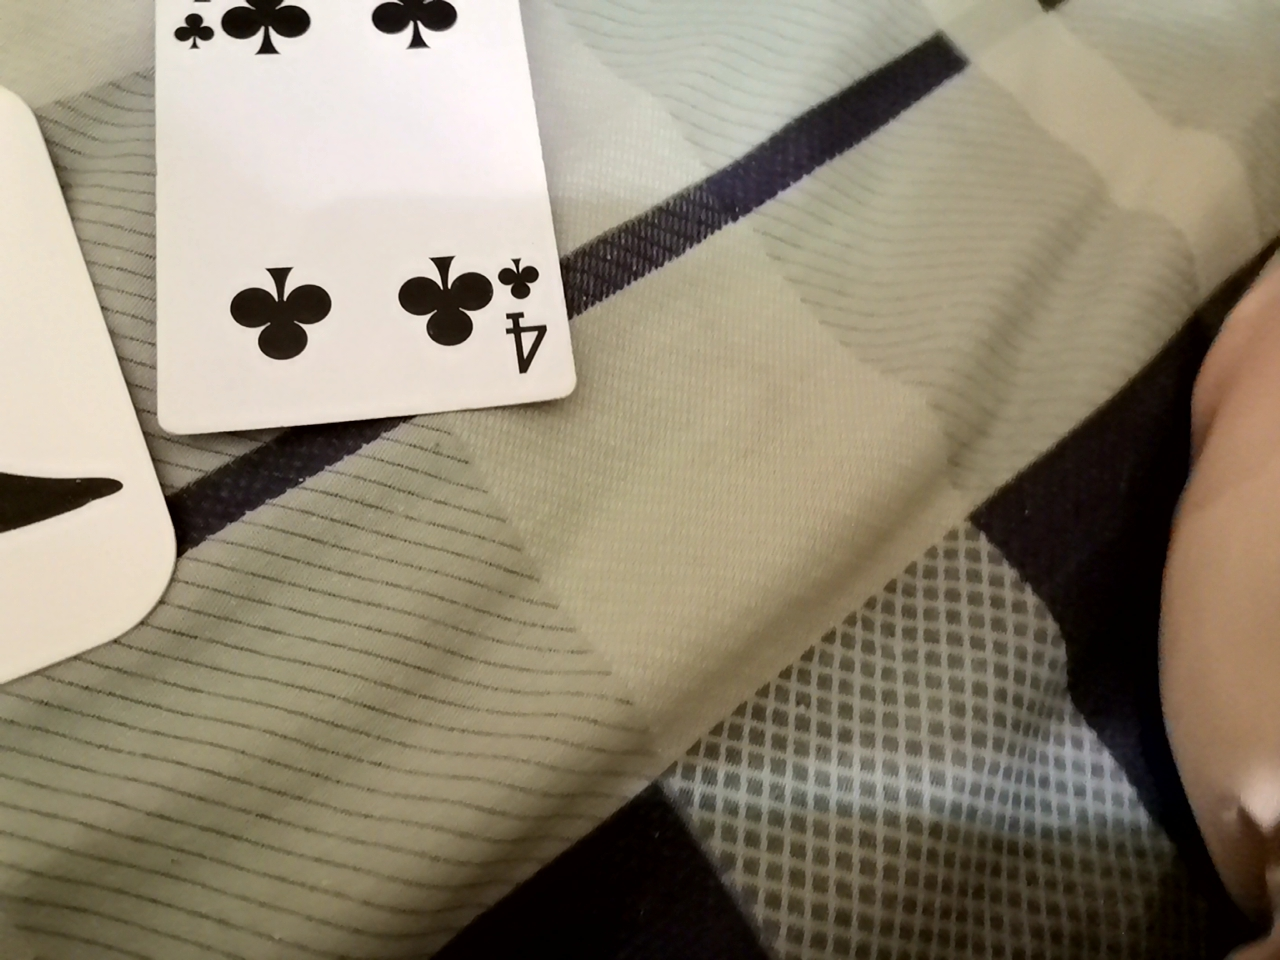mh 4: (156, 10, 563, 503)
